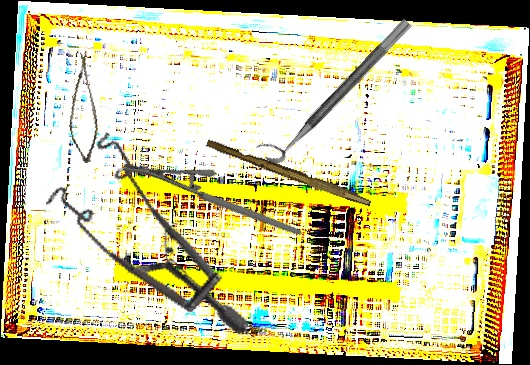Fixation Ring: (255, 6, 413, 169)
Micro Scissor: (53, 50, 111, 165)
Needle Holder: (119, 115, 303, 285)
Scalpel Handle: (204, 138, 374, 207)
Speculum: (25, 119, 291, 338)
